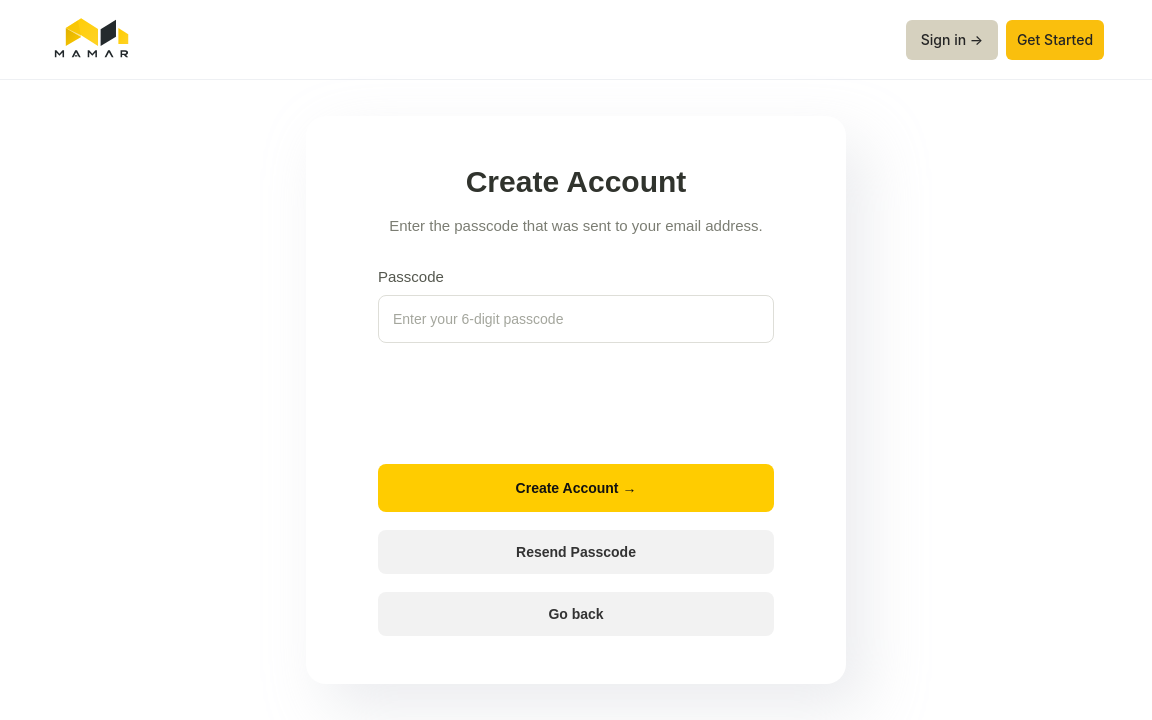
RegisterVerificationPage - إنشاء الحساب › فشل التسجيل بدون رسالة
Type "123456" into the field labelled "Passcode" at (576, 319), box [378,295,774,343]
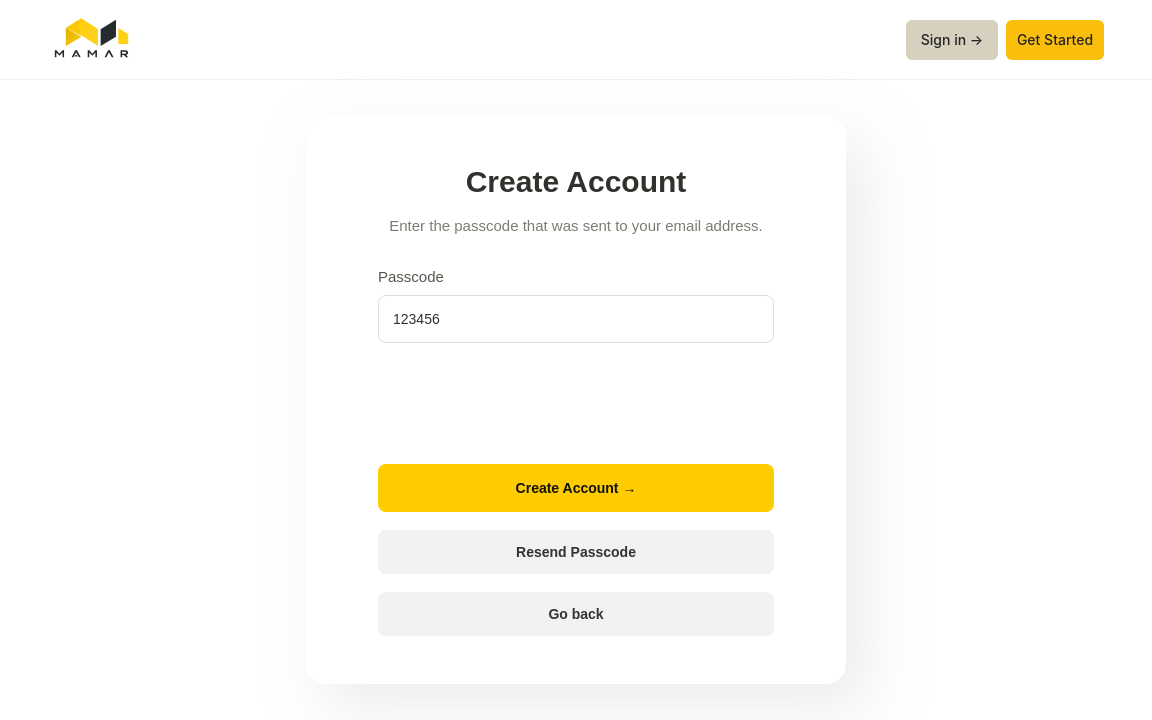
Click the button "Create Account →" at (576, 488), box [378,464,774,512]
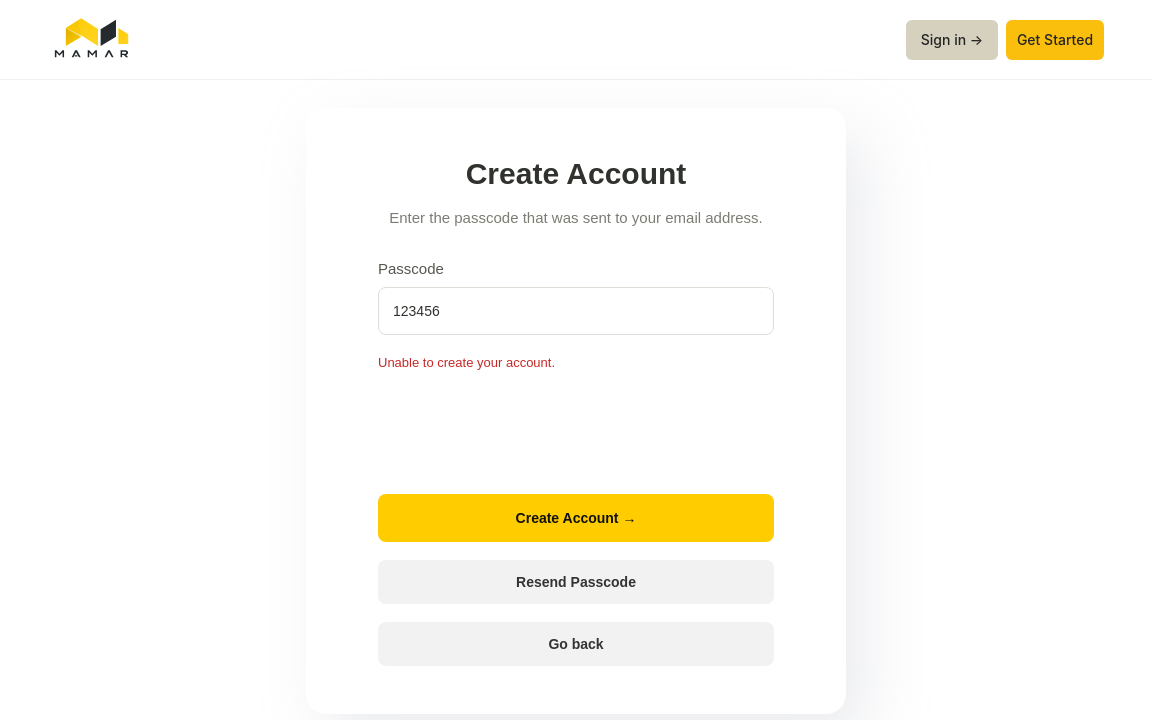
Result: the message reads "Unable to create your account." at [378,355,555,370]
